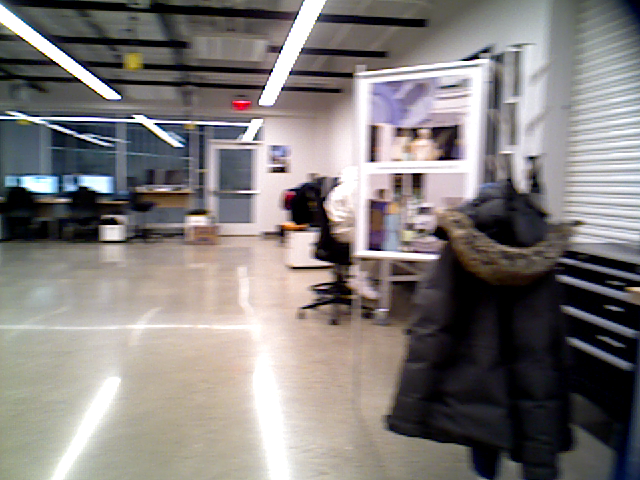painting3: (270, 145, 292, 175)
